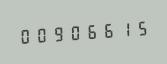five: (129, 16, 144, 39)
nine: (49, 22, 64, 45)
one: (113, 17, 128, 40)
six: (81, 20, 96, 43), (97, 19, 112, 41)
zero: (17, 24, 32, 47), (33, 23, 48, 46), (65, 21, 80, 44)
